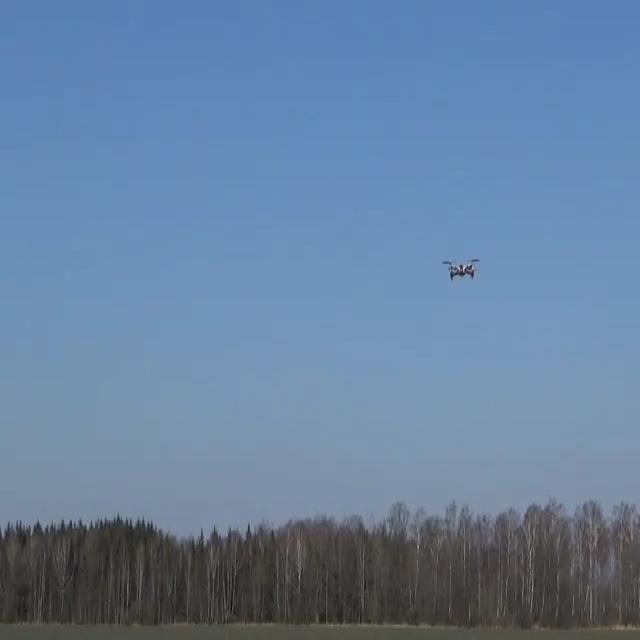drone: (441, 258, 479, 280)
